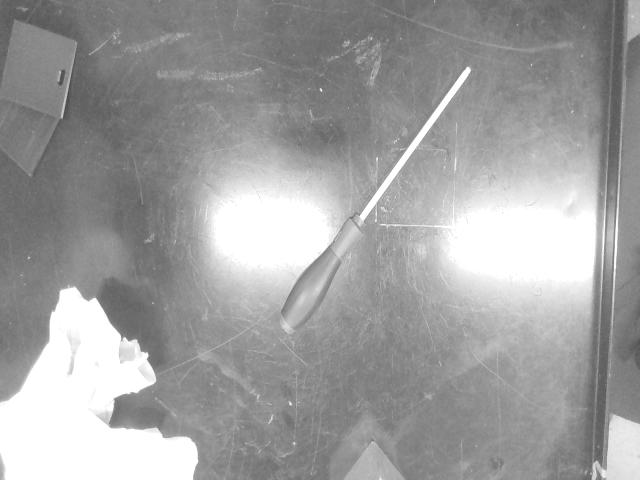Screwdriver: (279, 67, 471, 335)
